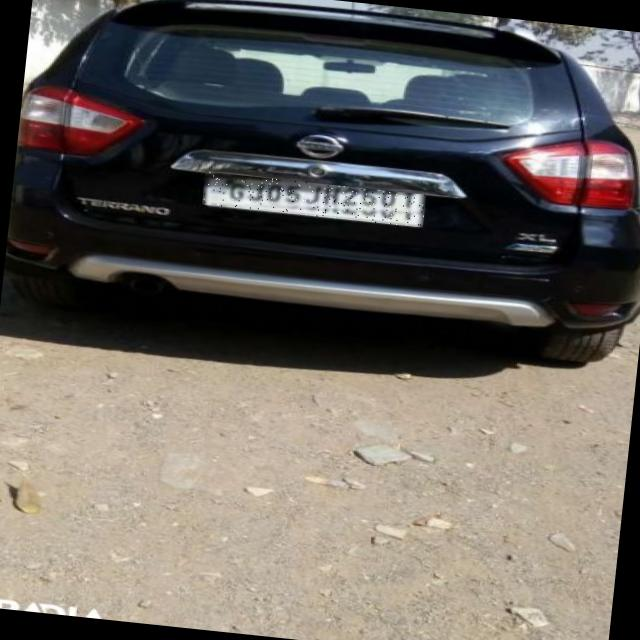Plate: (203, 172, 427, 228)
